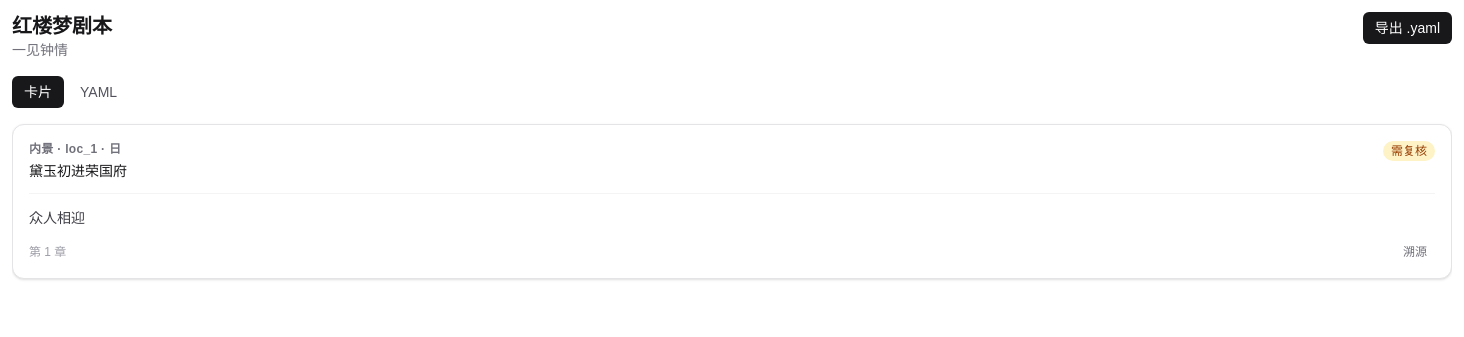
Test case: ScreenplayView › threads a per-scene warning message to the needs-review badge
Click the button "需复核".
click(1409, 151)  # box x1=1383 y1=141 x2=1435 y2=161
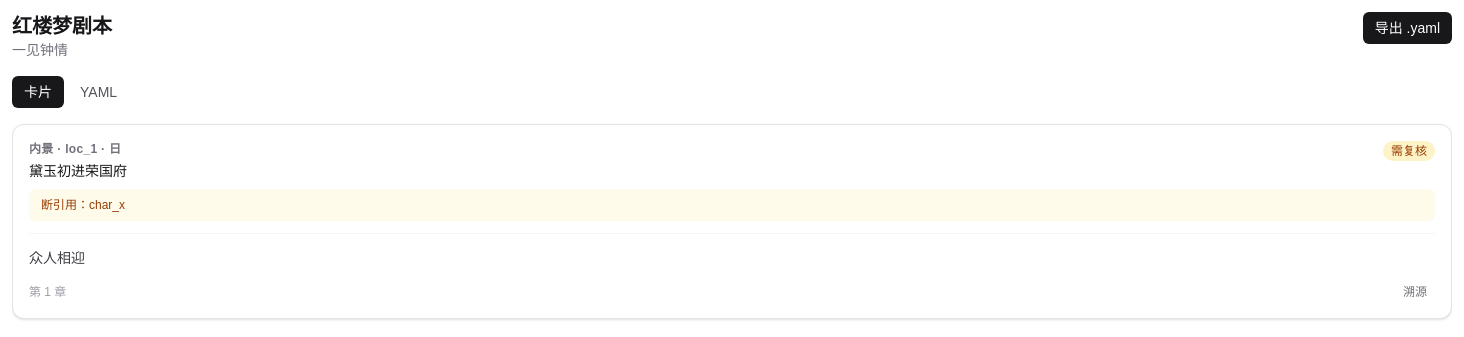
Expected: the text "断引用：char_x" is shown, x1=29 y1=189 x2=1435 y2=221
